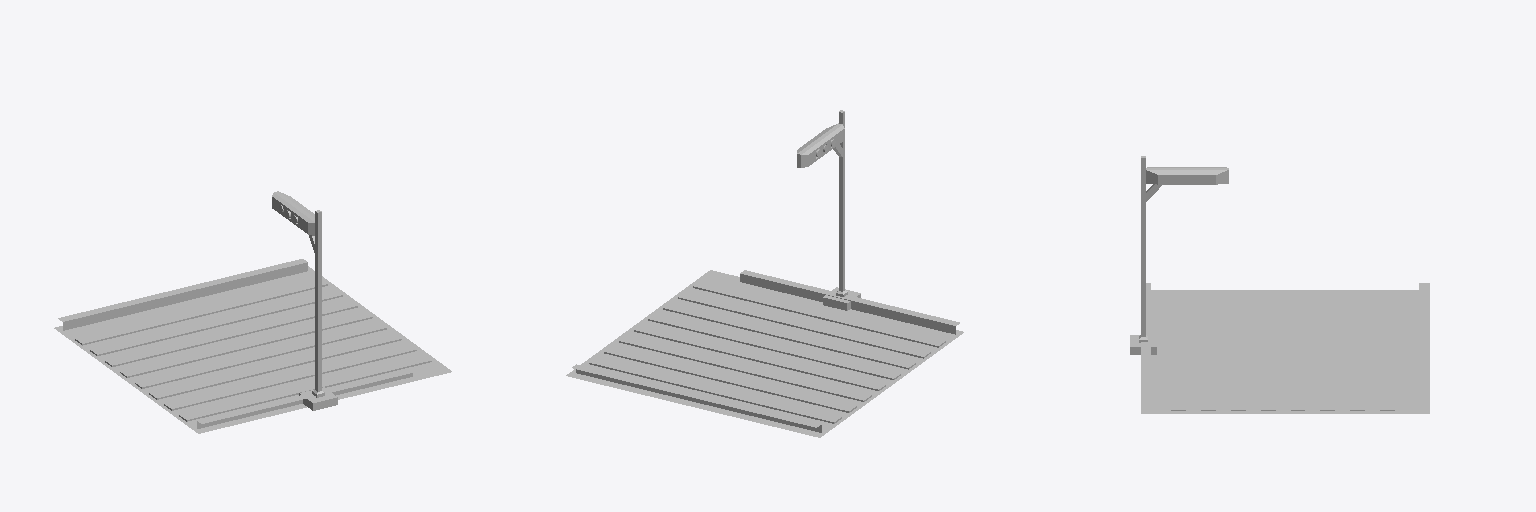
The model's file is carreterra_cuadrada.obj.
3 renders of one model, left to right at view 1: azimuth 30°, elevation 25°; view 2: azimuth 150°, elevation 25°; view 3: azimuth 270°, elevation 25°, orthographic.
Visible parts, largest first — view 1: Plane.008, Plane; view 2: Plane.008, Plane; view 3: Plane.008, Plane.
Part boxes in pixels (left/top/right/bottom): Plane.008: left=58, top=191, right=431, bottom=428; Plane: left=54, top=266, right=451, bottom=433; Plane.008: left=572, top=110, right=959, bottom=432; Plane: left=566, top=270, right=963, bottom=437; Plane.008: left=1130, top=156, right=1429, bottom=410; Plane: left=1141, top=290, right=1429, bottom=413.
Size of the model in its own units: 6.01 by 4.33 by 6.15.